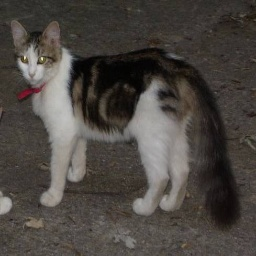cat: (10, 24, 244, 225)
